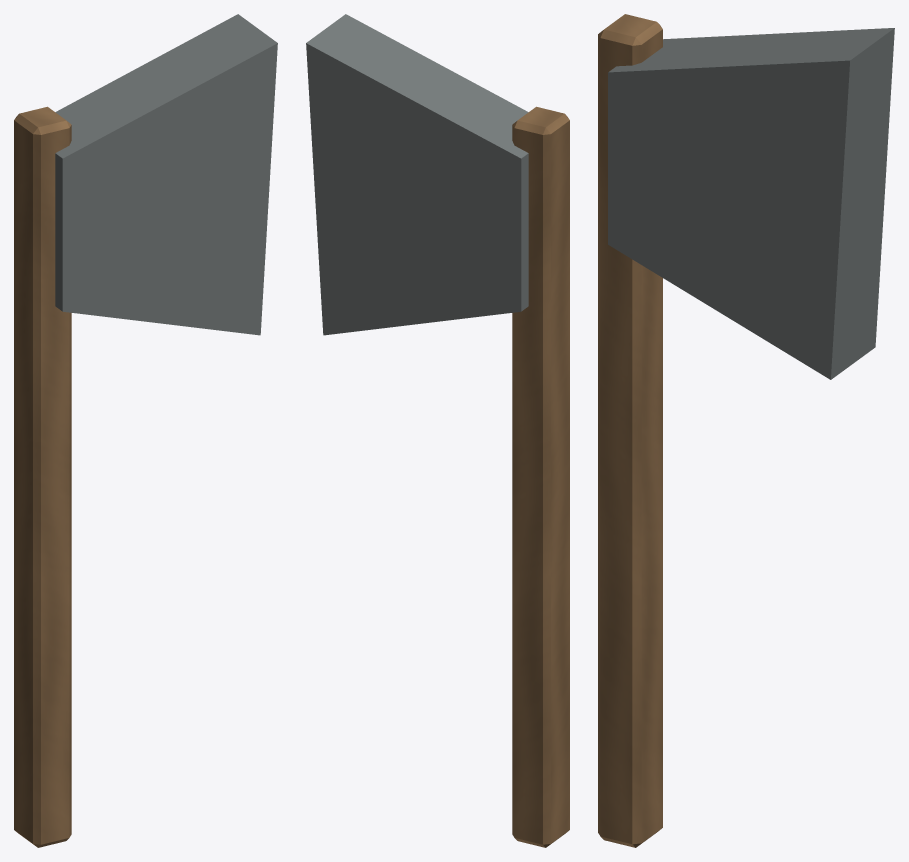
File: axe.glb
3 views of the same model, side by side, from view 1: azimuth 30°, elevation 25°; view 2: azimuth 150°, elevation 25°; view 3: azimuth 330°, elevation 25° (orthographic). The views are drawn at different scales.
Visible parts, largest first — view 1: axe; view 2: axe; view 3: axe.
Boxes of the visible parts, left/top/right/bottom form: axe: left=14, top=14, right=277, bottom=847; axe: left=306, top=14, right=569, bottom=847; axe: left=598, top=14, right=894, bottom=847.
Bounding box in the file's own units: 0.2725 × 0.84 × 0.08.
Materials: 2 (1 with a texture image).
